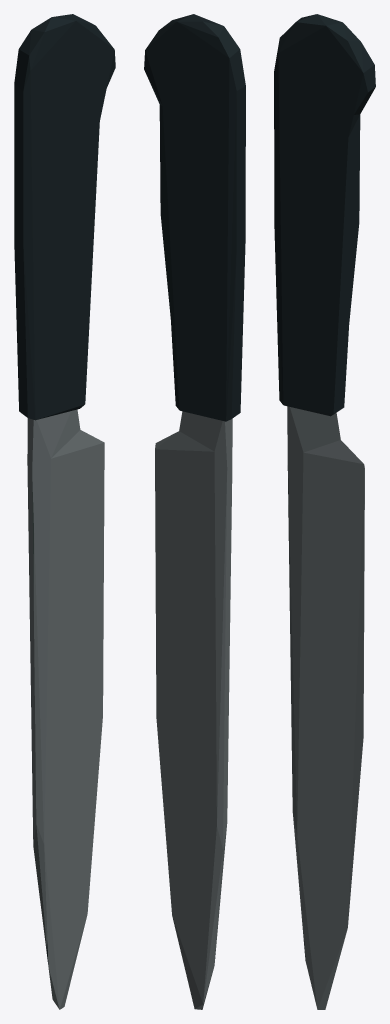
Rendered from Knife07.fbx.
3 views of the same model, side by side, from view 1: azimuth 30°, elevation 25°; view 2: azimuth 150°, elevation 25°; view 3: azimuth 330°, elevation 25° (orthographic).
Parts seen in each view (by area): view 1: Knife07LowPoly; view 2: Knife07LowPoly; view 3: Knife07LowPoly.
Part boxes in pixels (<box>): Knife07LowPoly: <box>14,14,115,1009</box>; Knife07LowPoly: <box>144,14,245,1009</box>; Knife07LowPoly: <box>274,14,375,1009</box>.
Size of the model in its own units: 2.39 by 24.32 by 0.5406.
